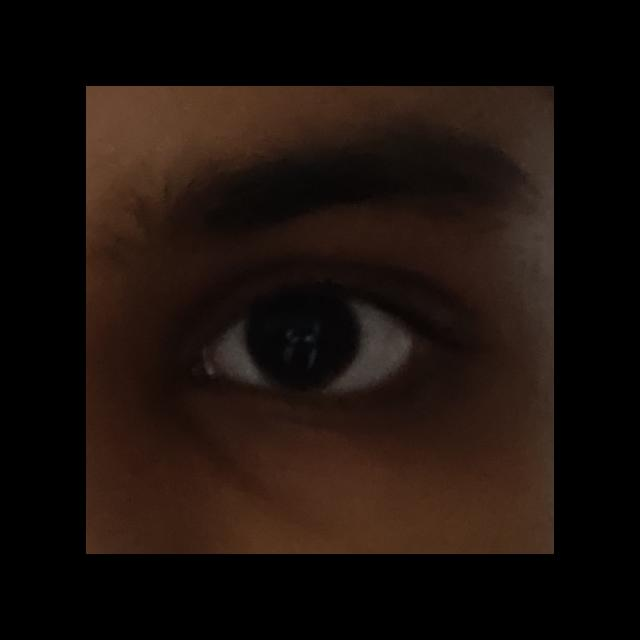eye: (208, 290, 413, 389)
iris: (244, 294, 359, 381)
